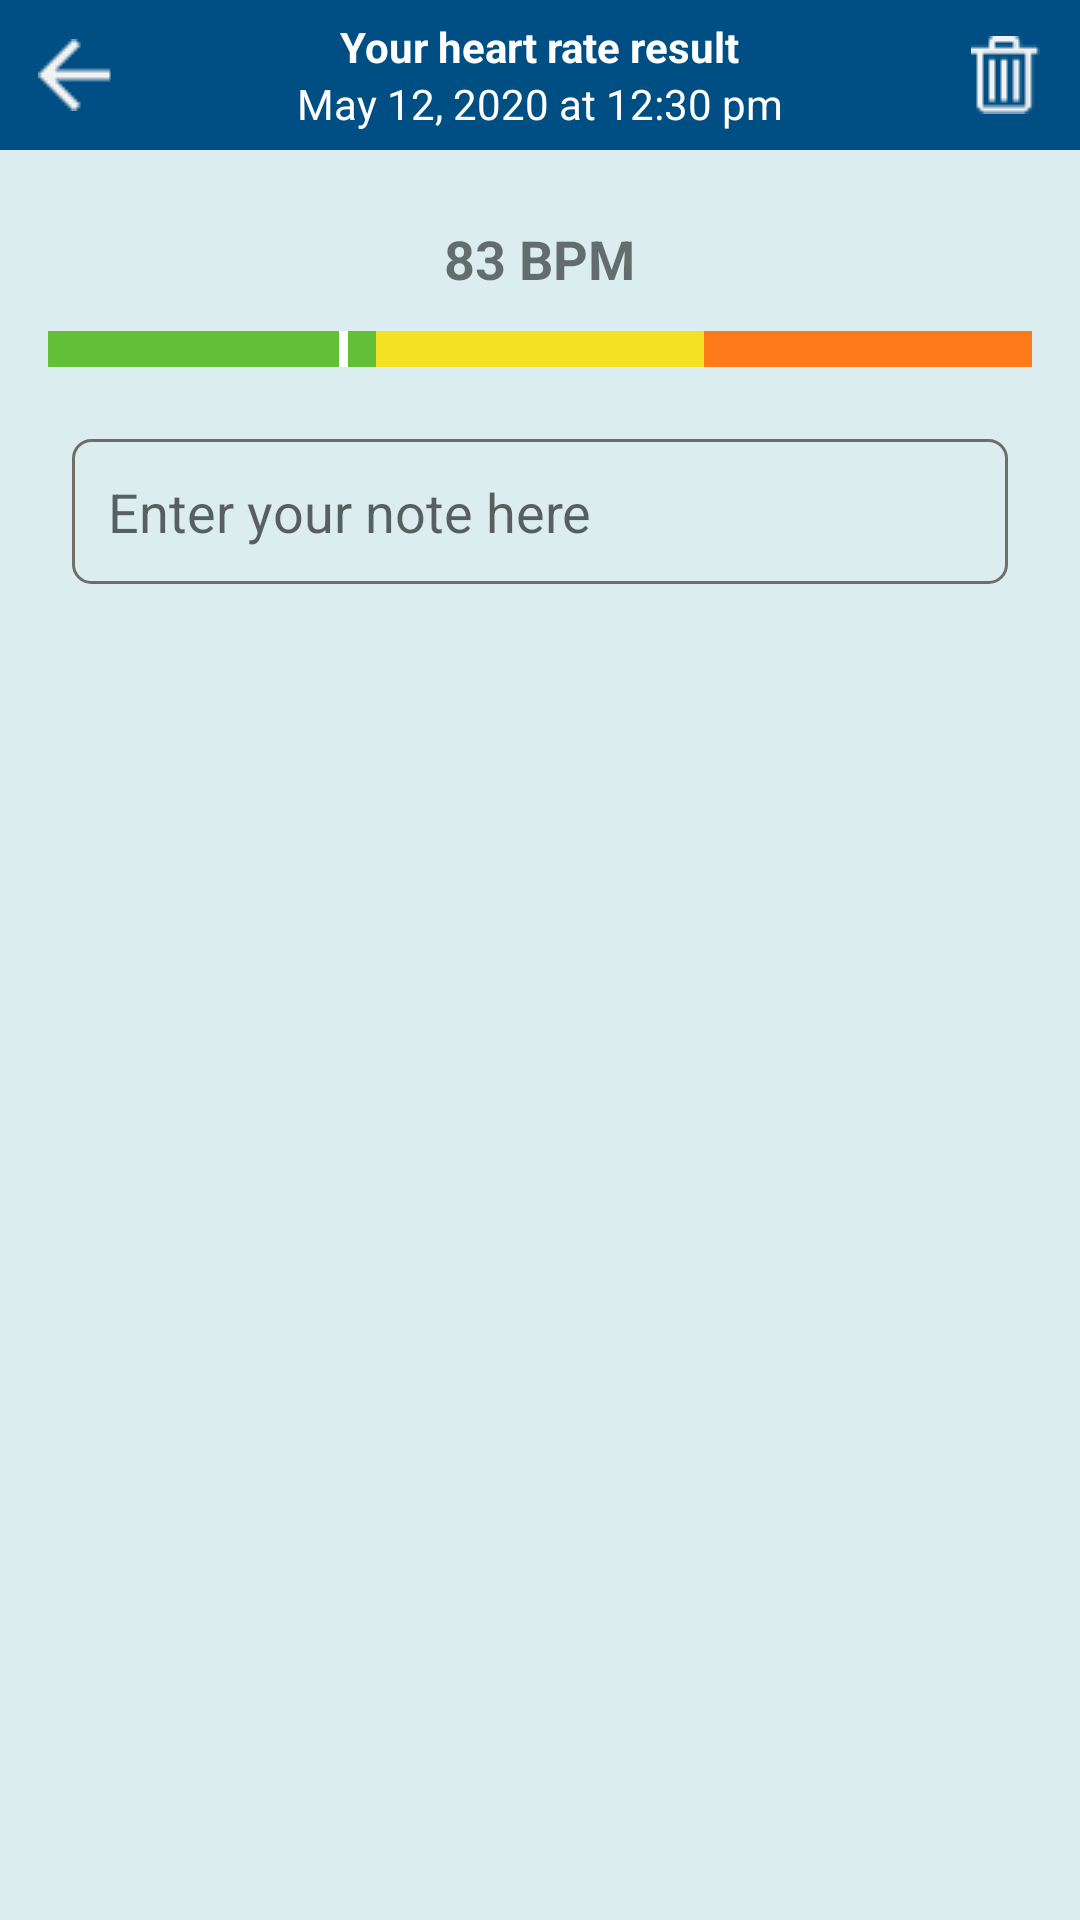

Named icons in this screenshot (1080×1920) and their centers, [x,y]:
delete: [1005,75]
left arrow: [74,75]
